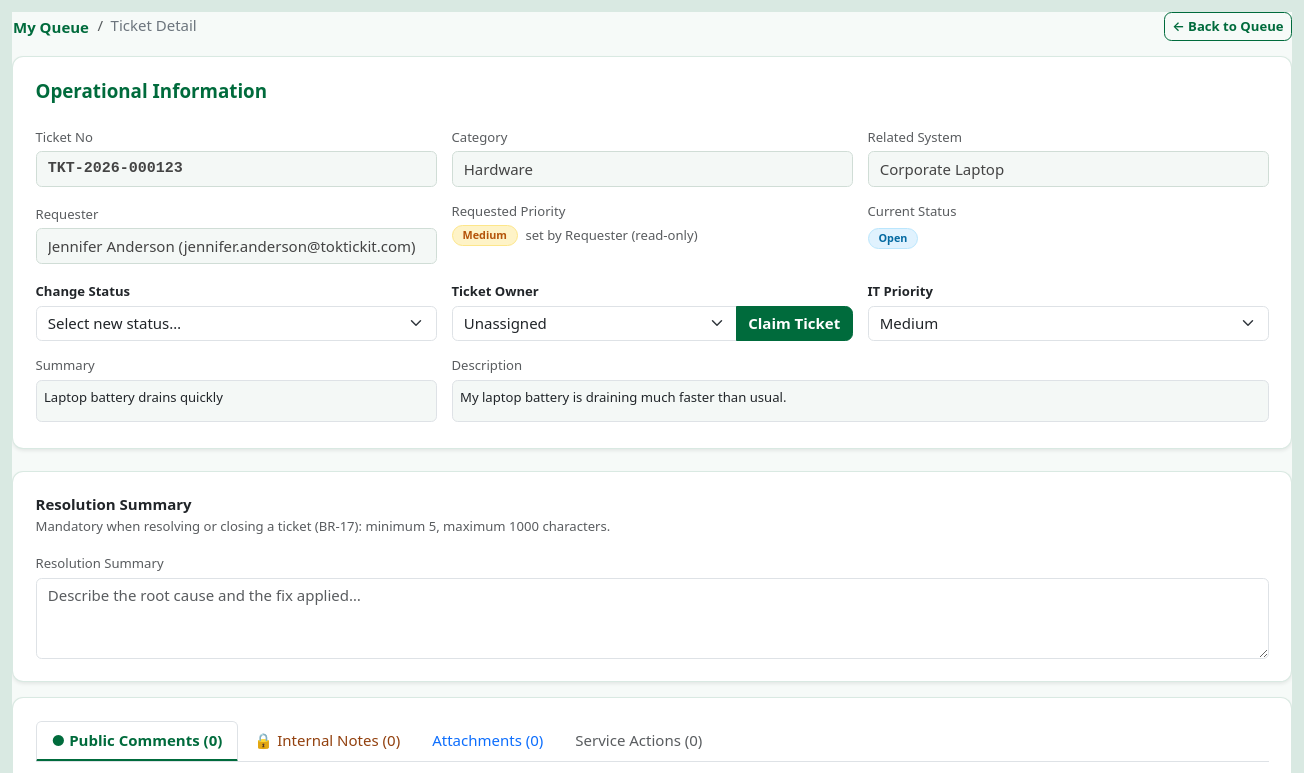
Test case: StaffTicketDetail Screen — IT Staff control panel (/staff/tickets/:id) › claims an unassigned ticket via the Claim Ticket button
The image size is (1304, 773).
What coordinates should you click on to do the following:
click the button "Claim Ticket"
I would click on:
 (794, 323)
Its box is top-left (736, 306), bottom-right (852, 341).
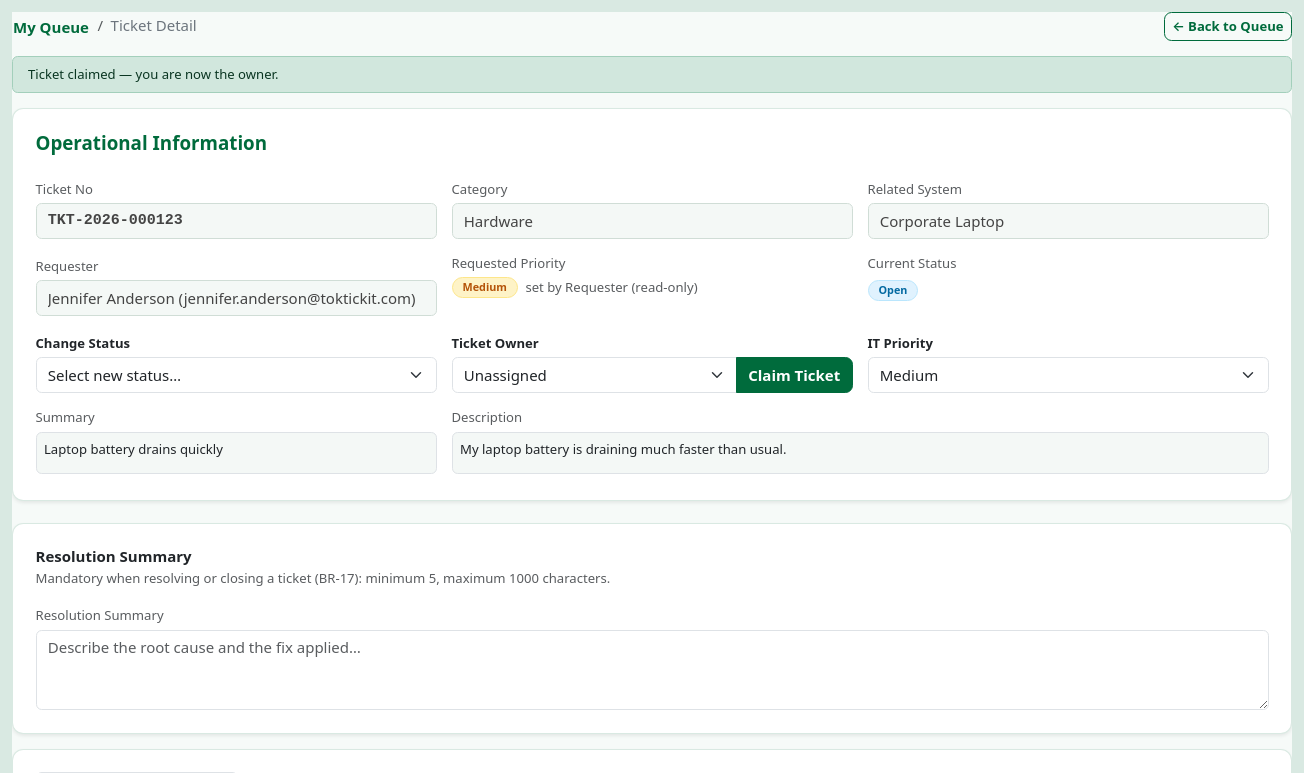
Check: the message "Ticket claimed — you are now the owner." is shown, box top-left (12, 56), bottom-right (1292, 93)
